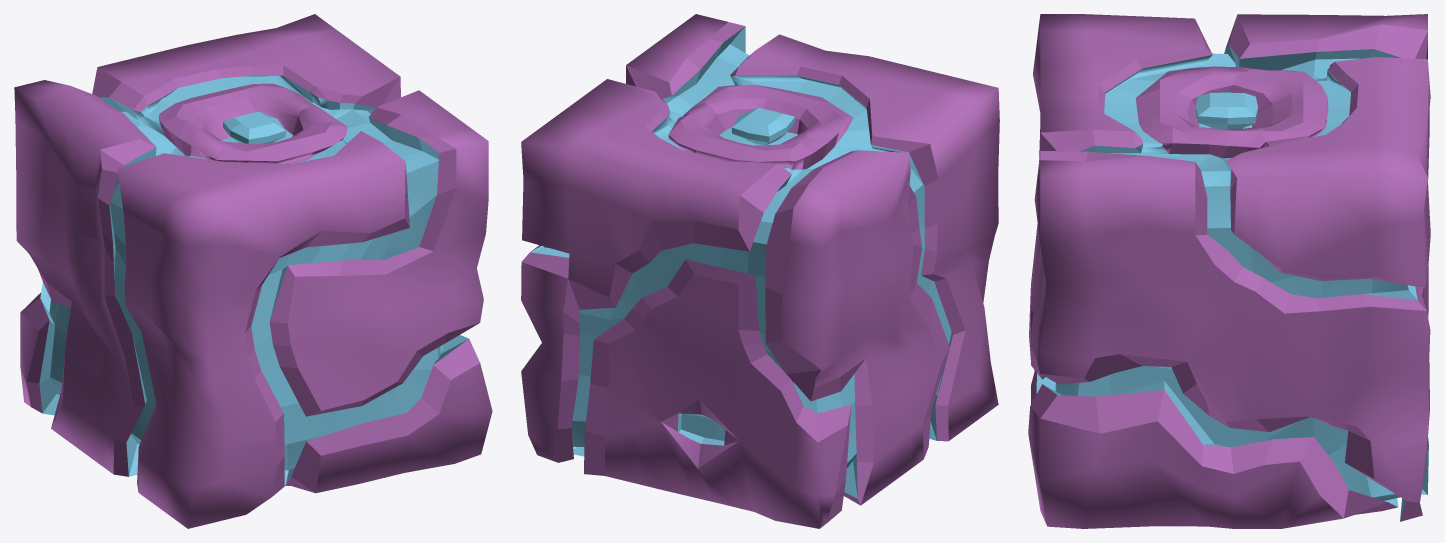
Rendered from Spock_Neutral3.2.fbx.
3 views of the same model, side by side, from view 1: azimuth 30°, elevation 25°; view 2: azimuth 150°, elevation 25°; view 3: azimuth 270°, elevation 25° (orthographic). The views are drawn at different scales.
Parts seen in each view (by area): view 1: Spock_ingame.001; view 2: Spock_ingame.001; view 3: Spock_ingame.001.
Part boxes in pixels (x1,y1,x2,y2): Spock_ingame.001: (14,14,492,528); Spock_ingame.001: (521,14,999,528); Spock_ingame.001: (1028,14,1430,528).
Bounding box in the file's own units: 103 × 104 × 104.
